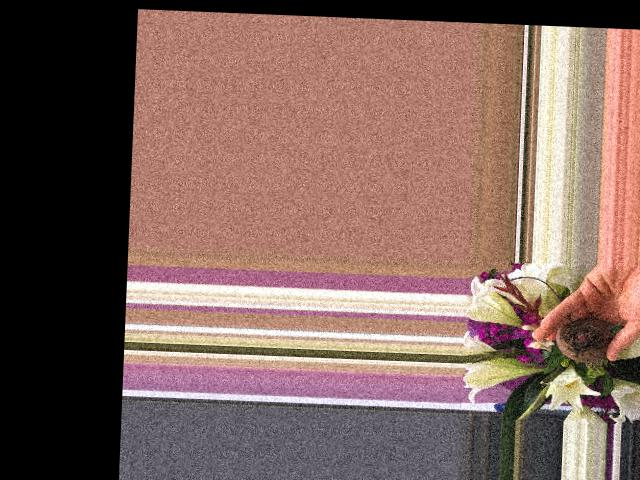beet: (553, 315, 612, 363)
